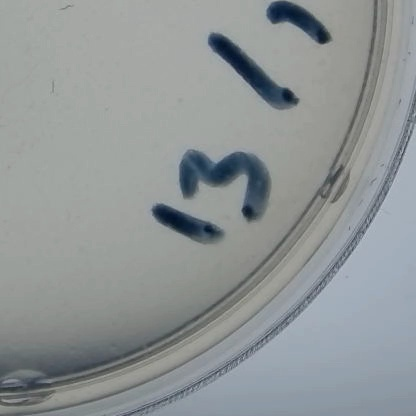worm: (43, 66, 67, 96), (0, 107, 18, 130), (54, 0, 79, 12)
